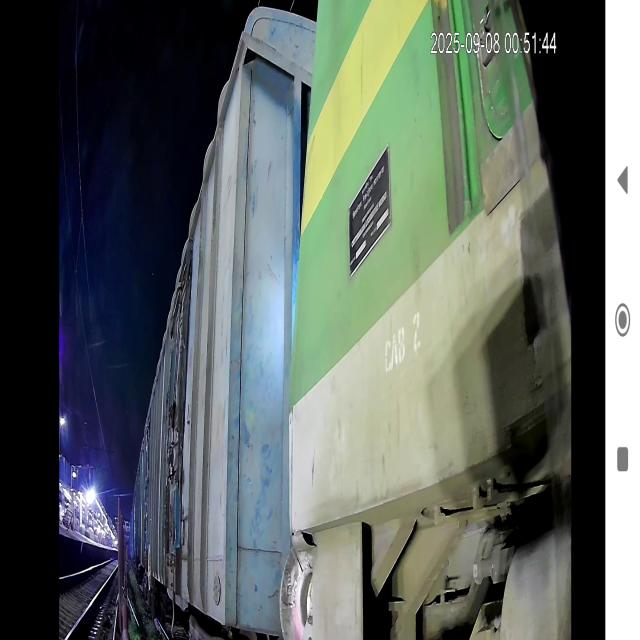joint: (218, 0, 380, 636)
